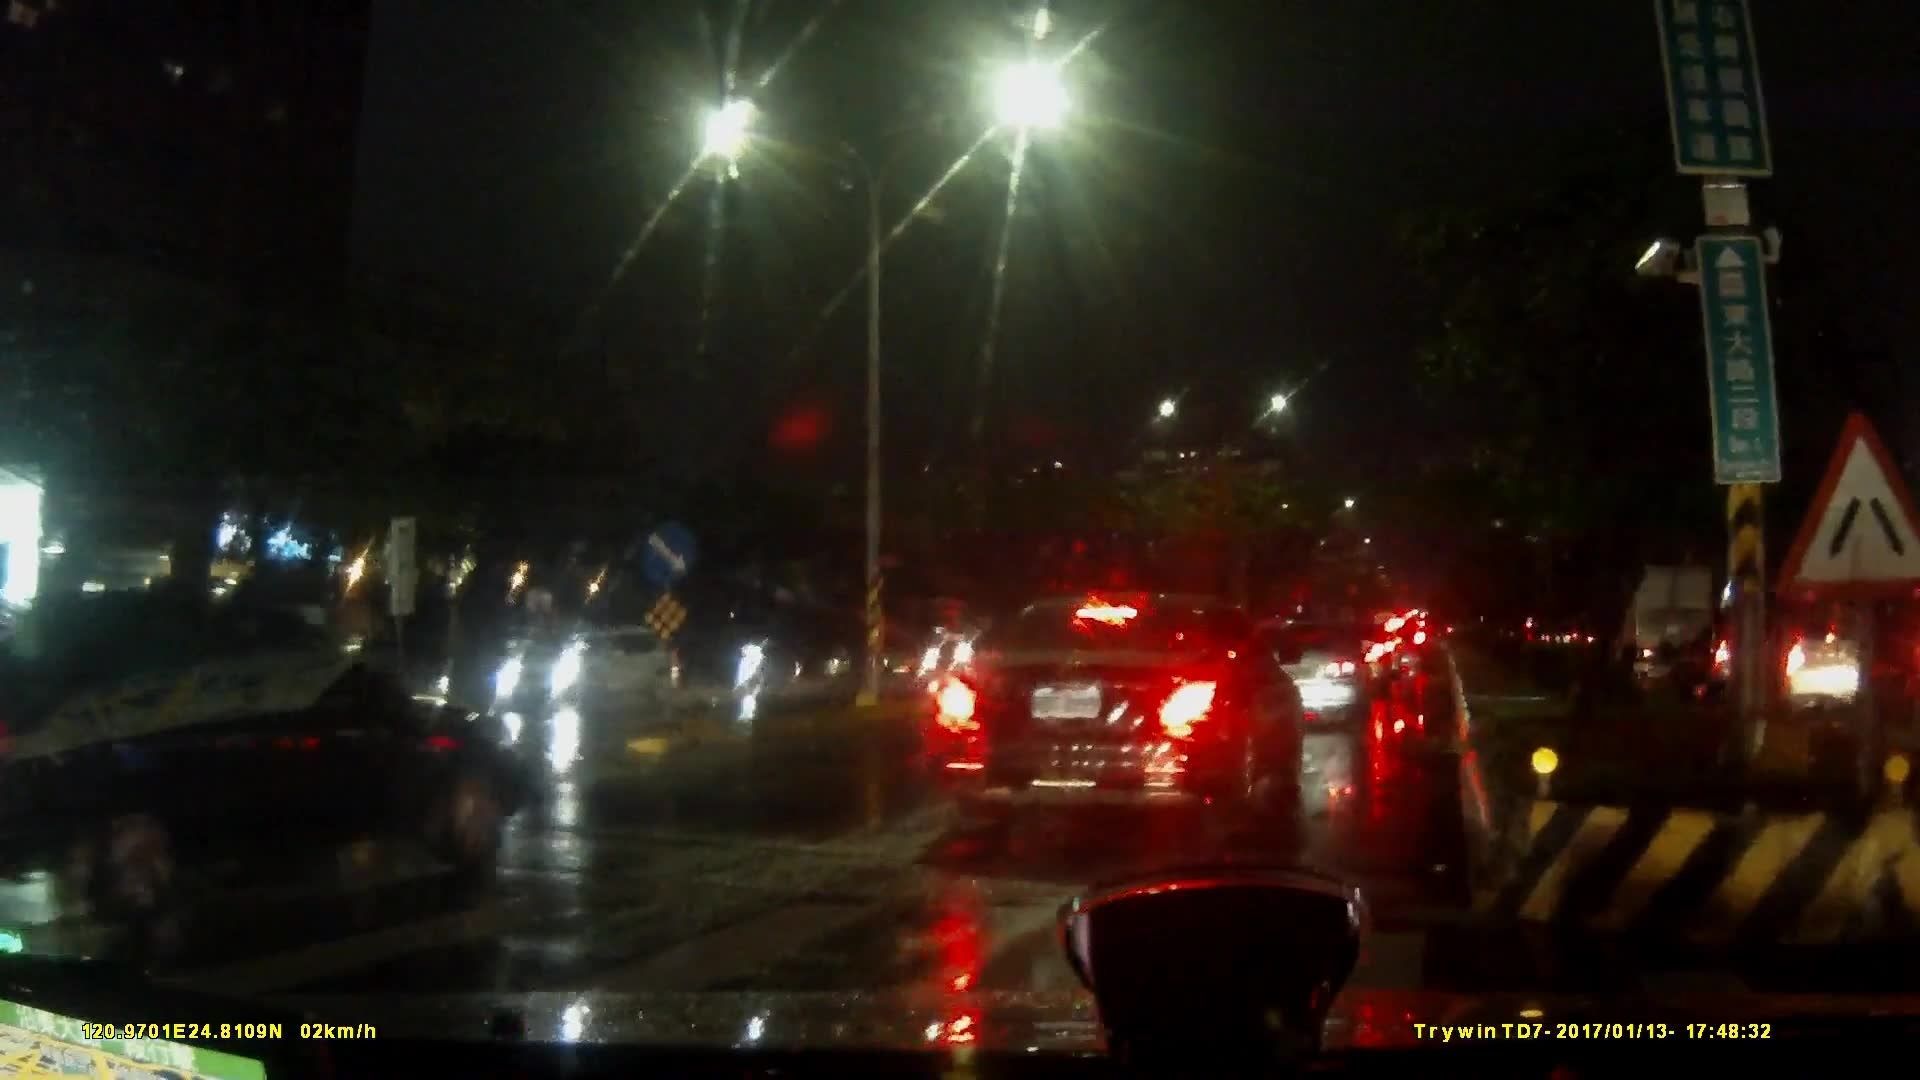vehicle: (1204, 613, 1379, 725), (1425, 603, 1596, 715), (1650, 609, 1797, 687), (1846, 593, 1920, 724)
